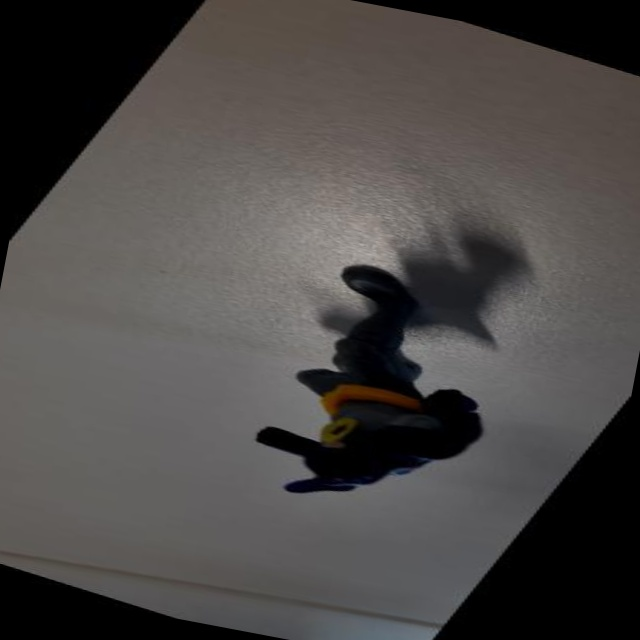Batman: (167, 228, 574, 553)
